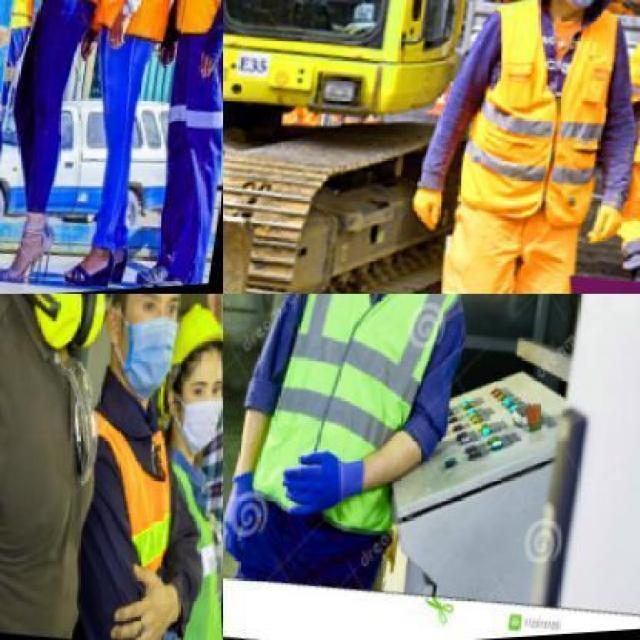hat: (168, 303, 222, 362)
